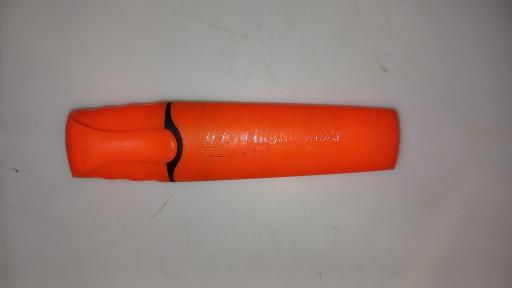Highlighter: (65, 100, 399, 182)
